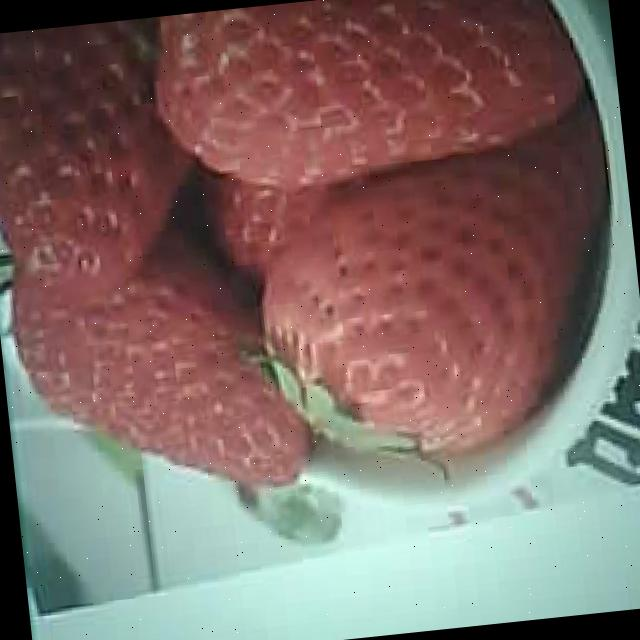strawberry: (248, 132, 628, 460), (0, 209, 314, 508), (153, 0, 586, 195)
